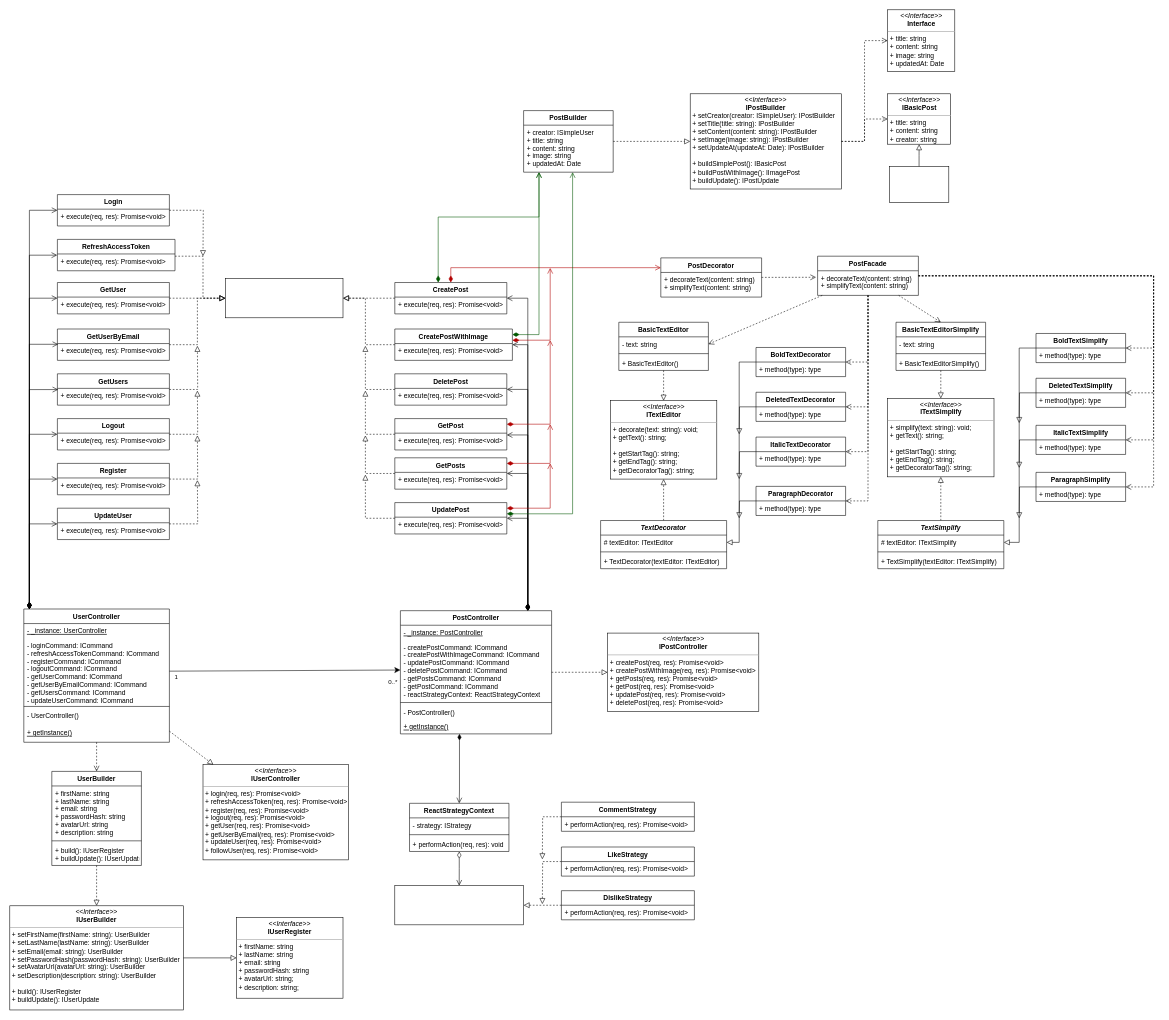
This 1169x1020 diagram has some shape labels left out. Each missing label, with the centre of its shape:
"<<Interface>> ICommand + execute(req, res): Promise<void>" goes at pixel 284 298.
"<<Interface>> IImagePost + image: string" goes at pixel 919 184.
"<<Interface>> IStrategy + performAction(req, res): Promise<void>" goes at pixel 459 905.
